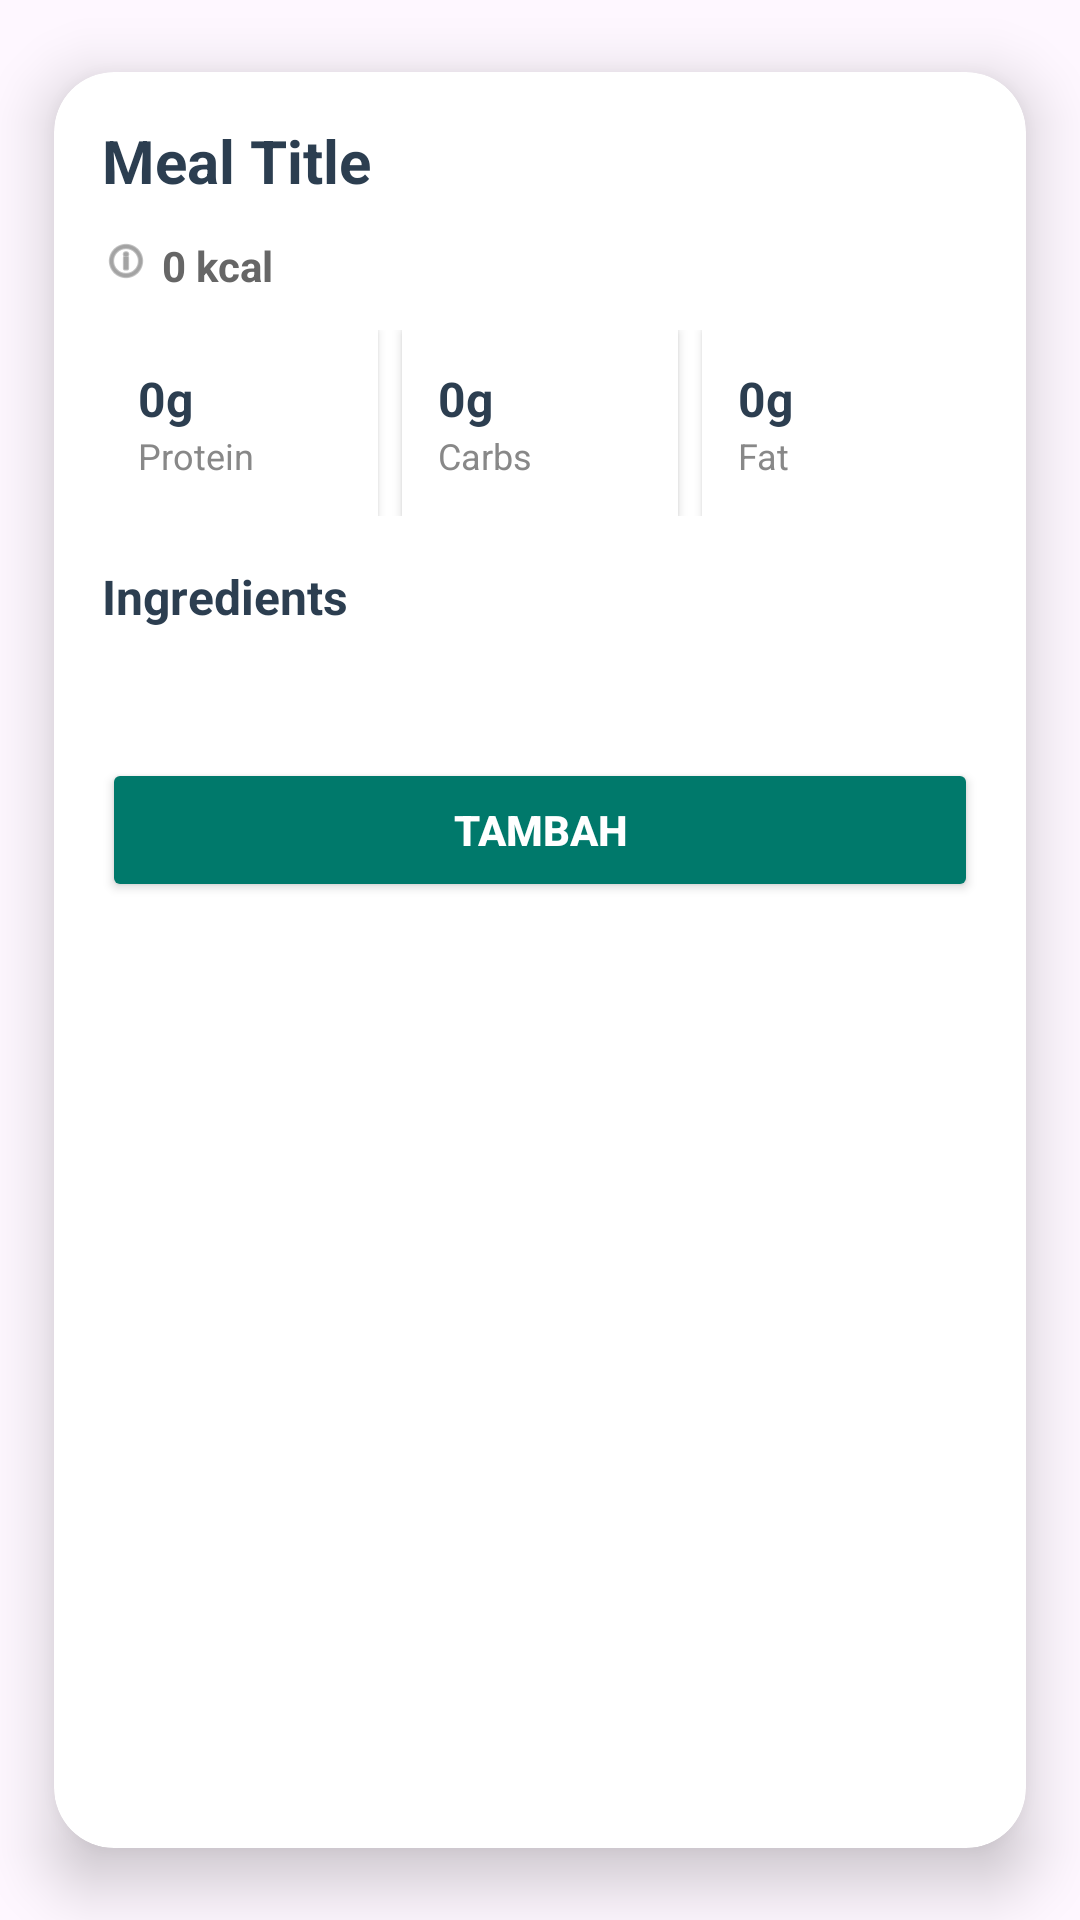

Screen size 1080x1920. Icon name, then its box in pixels as bbox=[x1, y1, x2, y2]:
info details: bbox=[109, 244, 143, 278]
